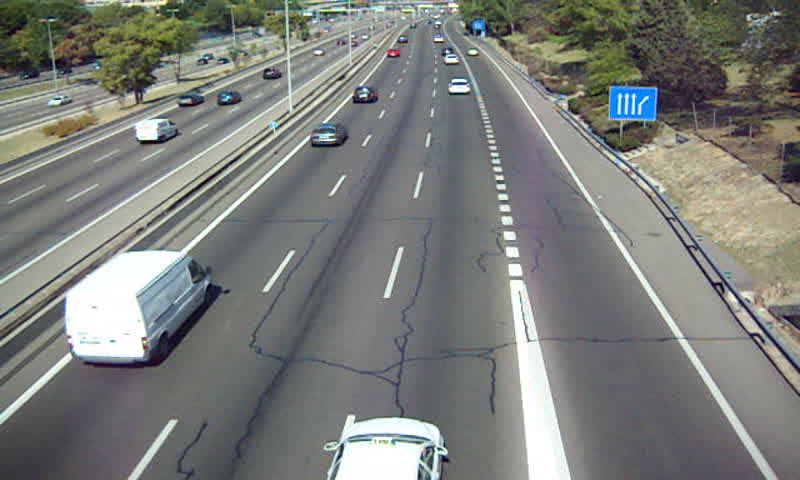car: (311, 124, 348, 146), (352, 85, 377, 104), (446, 78, 472, 95), (442, 53, 463, 66), (386, 48, 404, 58)
van: (63, 250, 211, 365)
